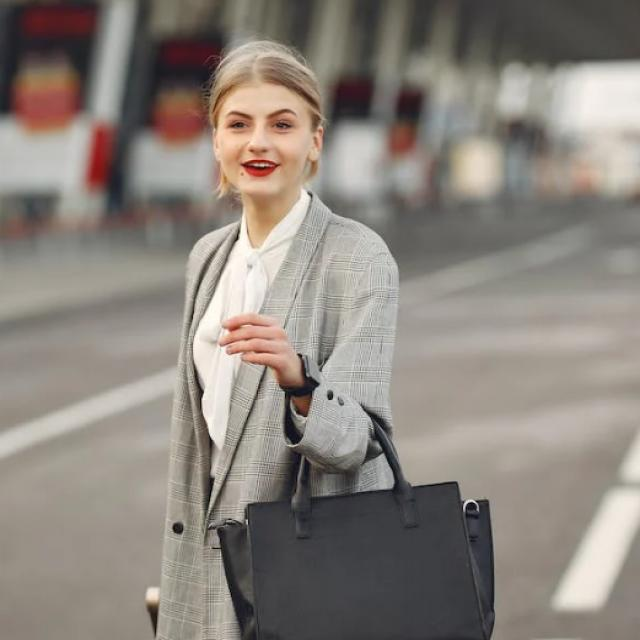Watch: (284, 352, 326, 407)
